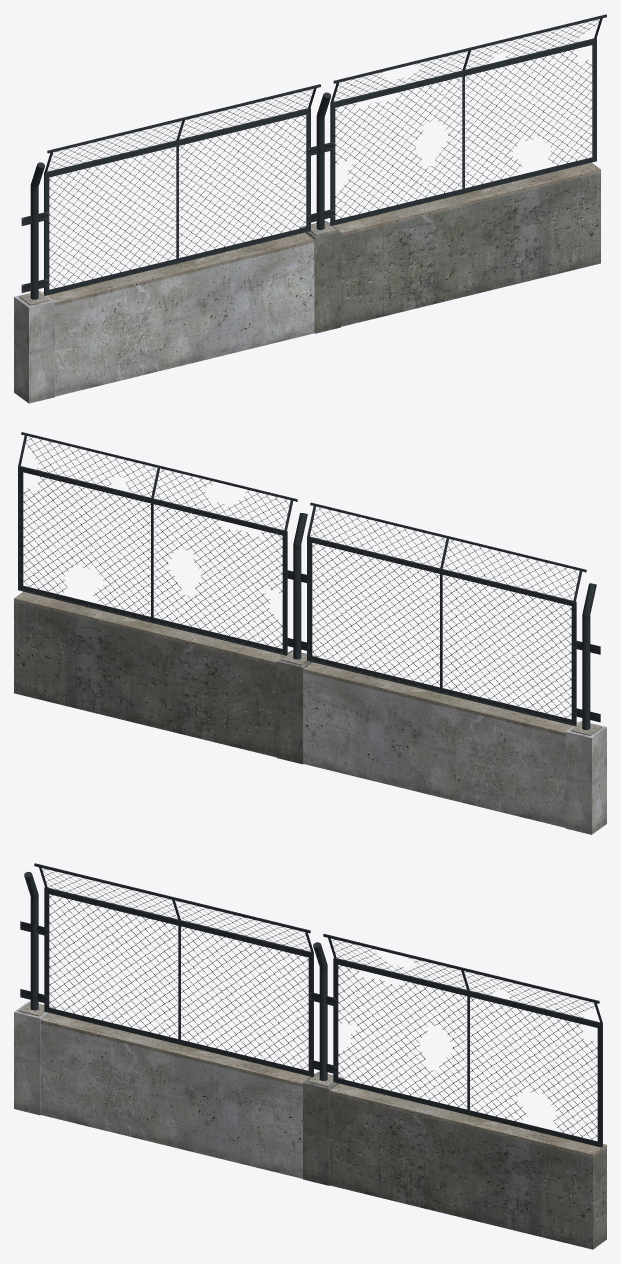
File: concrete and metallic fence.FBX
3 views of the same model, one above another, from view 1: azimuth 30°, elevation 25°; view 2: azimuth 150°, elevation 25°; view 3: azimuth 330°, elevation 25° (orthographic).
Parts seen in each view (by area): view 1: concrete_Wall, concrete_Wall_1, Metal_wall_grid_1, Metal_wall_grid, Metal_wall, Metal_wall_1, Colones_2, Colones_1, Colones_metal_1, Colones_metal_2; view 2: concrete_Wall, concrete_Wall_1, Metal_wall_grid_1, Metal_wall_grid, Metal_wall, Metal_wall_1, Colones_2, Colones_1, Colones_metal_2, Colones_metal_1; view 3: concrete_Wall, concrete_Wall_1, Metal_wall_grid_1, Metal_wall_grid, Metal_wall, Metal_wall_1, Colones_2, Colones_1, Colones_metal_1, Colones_metal_2.
Boxes of the visible parts, box(x1,y1,x2,y2) form: concrete_Wall: box(329, 162, 600, 326); concrete_Wall_1: box(43, 232, 314, 396); Metal_wall_grid_1: box(47, 90, 312, 288); Metal_wall_grid: box(333, 20, 599, 218); Metal_wall: box(330, 14, 606, 225); Metal_wall_1: box(44, 84, 320, 295); Colones_2: box(14, 290, 54, 403); Colones_1: box(300, 220, 340, 333); Colones_metal_1: box(307, 92, 334, 229); Colones_metal_2: box(21, 162, 48, 299); concrete_Wall: box(14, 591, 288, 757); concrete_Wall_1: box(303, 662, 577, 827); Metal_wall_grid_1: box(308, 505, 578, 723); Metal_wall_grid: box(19, 435, 289, 653); Metal_wall: box(18, 432, 297, 655); Metal_wall_1: box(307, 502, 586, 726); Colones_2: box(565, 721, 606, 834); Colones_1: box(276, 650, 317, 764); Colones_metal_2: box(576, 583, 600, 729); Colones_metal_1: box(287, 513, 307, 659); concrete_Wall: box(329, 1083, 606, 1249); concrete_Wall_1: box(40, 1013, 314, 1178); Metal_wall_grid_1: box(42, 869, 309, 1069); Metal_wall_grid: box(331, 939, 597, 1139); Metal_wall: box(323, 934, 602, 1147); Metal_wall_1: box(34, 863, 313, 1076); Colones_2: box(14, 1001, 54, 1115); Colones_1: box(303, 1071, 343, 1185); Colones_metal_1: box(309, 942, 336, 1080); Colones_metal_2: box(20, 871, 47, 1010).
Bounding box in the file's own units: 1200 × 57.66 × 489.
